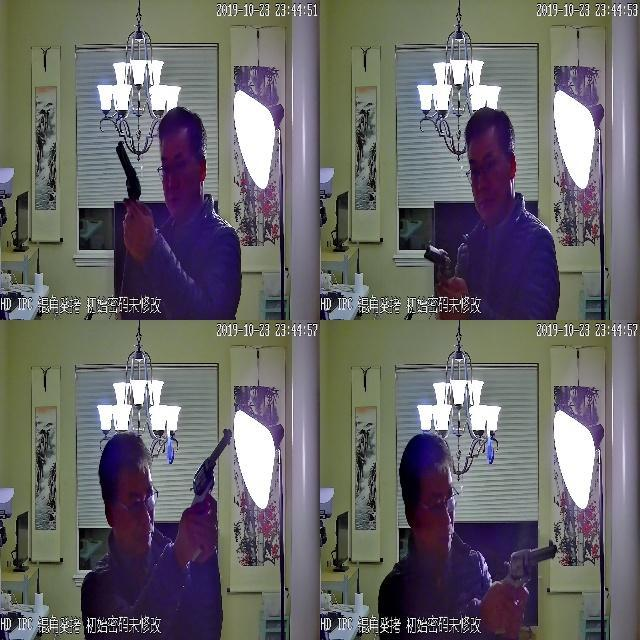gun-knife-thesis - v11 Yolov5 augmented: (177, 422, 234, 567), (498, 537, 552, 608), (416, 237, 457, 303), (113, 135, 143, 224)
